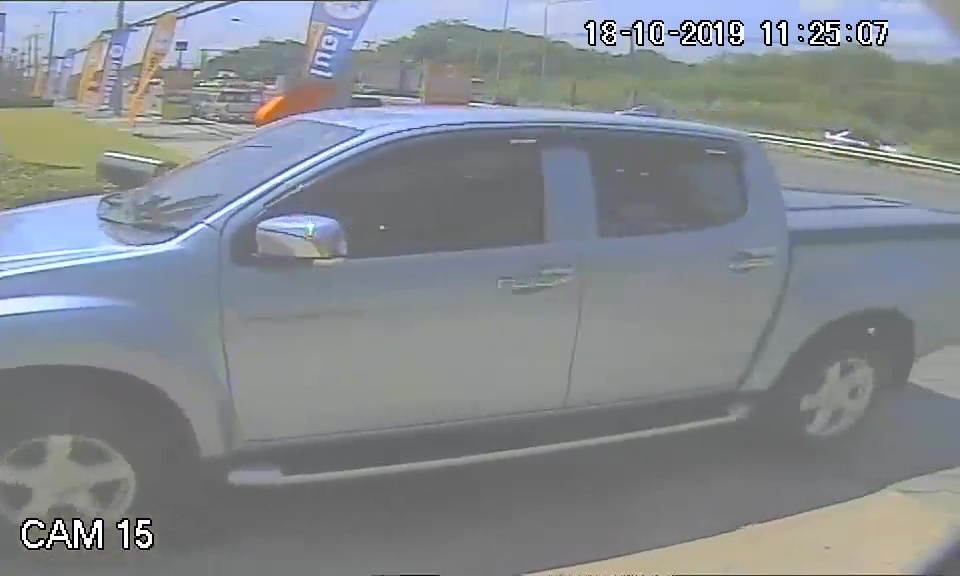pickup: (1, 100, 958, 502)
